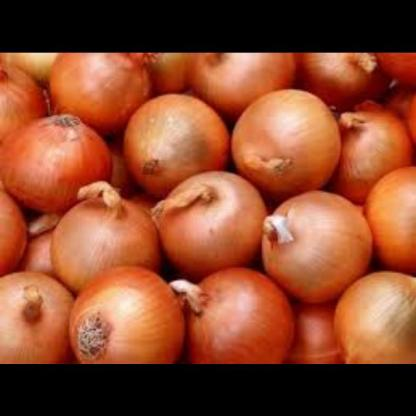onion: (1, 52, 415, 363)
